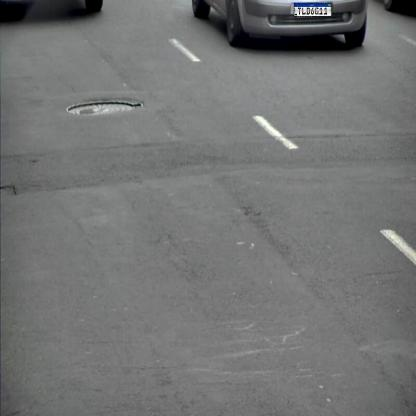PlacaM: (294, 2, 332, 16)
